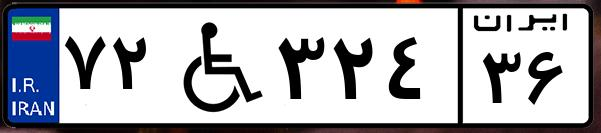2: (330, 28, 385, 110), (110, 28, 158, 98)
3: (270, 28, 330, 110), (475, 38, 525, 113)
4: (385, 28, 445, 110)
6: (525, 38, 570, 115)
7: (57, 26, 110, 100)
ژ (معلولین و جانبازان): (158, 12, 270, 120)
